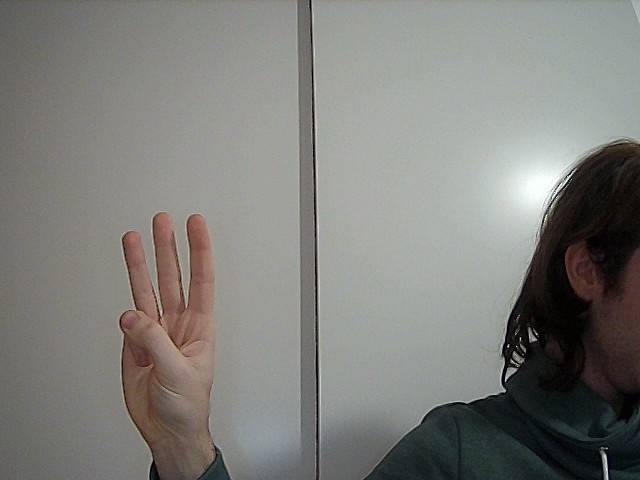w: (98, 207, 231, 443)
